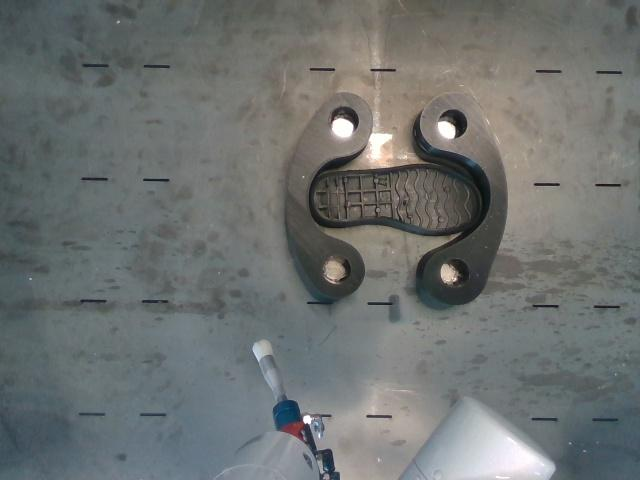shoes: (314, 165, 480, 234)
